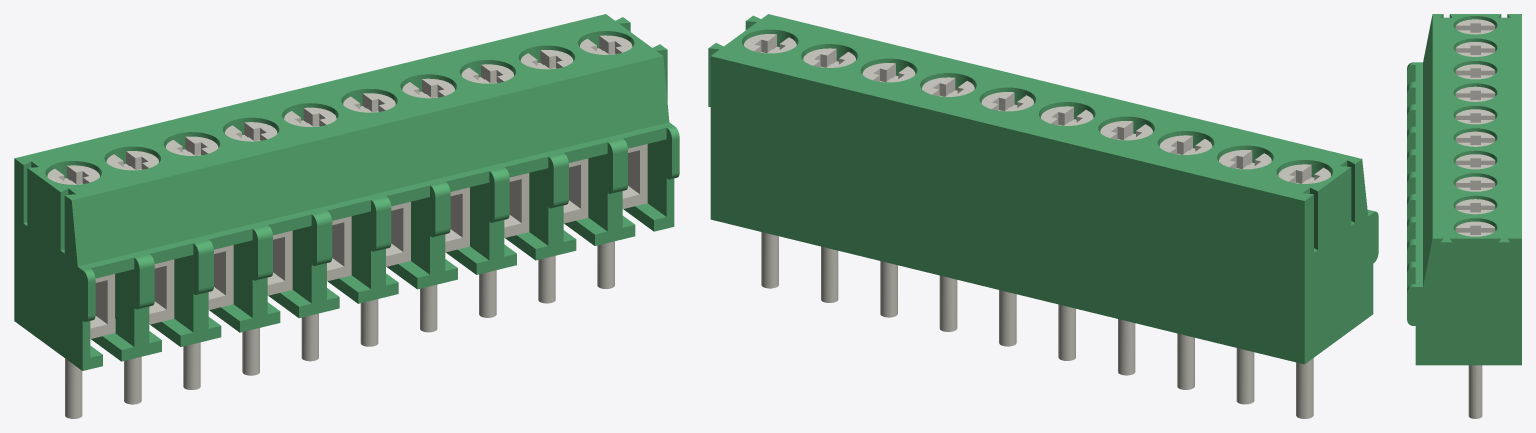
Rendered from kc-terminalblock_phoenix_pt-1_5-10-3.5-h_1x10_p3.50mm_horizontal.glb.
3 views of the same model, side by side, from view 1: azimuth 30°, elevation 25°; view 2: azimuth 150°, elevation 25°; view 3: azimuth 270°, elevation 25° (orthographic). The views are drawn at different scales.
Visible parts, largest first — view 1: 0.08333333333333333_0.4166666666666667_0.16666666666666666_0, 0.6666666666666666_0.6666666666666666_0.5833333333333334_0.8; view 2: 0.08333333333333333_0.4166666666666667_0.16666666666666666_0, 0.6666666666666666_0.6666666666666666_0.5833333333333334_0.8; view 3: 0.08333333333333333_0.4166666666666667_0.16666666666666666_0, 0.6666666666666666_0.6666666666666666_0.5833333333333334_0.8.
Boxes of the visible parts, x1,y1,x2,y2 form: 0.08333333333333333_0.4166666666666667_0.16666666666666666_0: (14, 14, 679, 370); 0.6666666666666666_0.6666666666666666_0.5833333333333334_0.8: (47, 35, 647, 418); 0.08333333333333333_0.4166666666666667_0.16666666666666666_0: (708, 14, 1378, 364); 0.6666666666666666_0.6666666666666666_0.5833333333333334_0.8: (744, 34, 1330, 418); 0.08333333333333333_0.4166666666666667_0.16666666666666666_0: (1407, 14, 1521, 365); 0.6666666666666666_0.6666666666666666_0.5833333333333334_0.8: (1455, 19, 1495, 418).
Size of the model in its own units: 3.56 by 1.37 by 0.7551.
